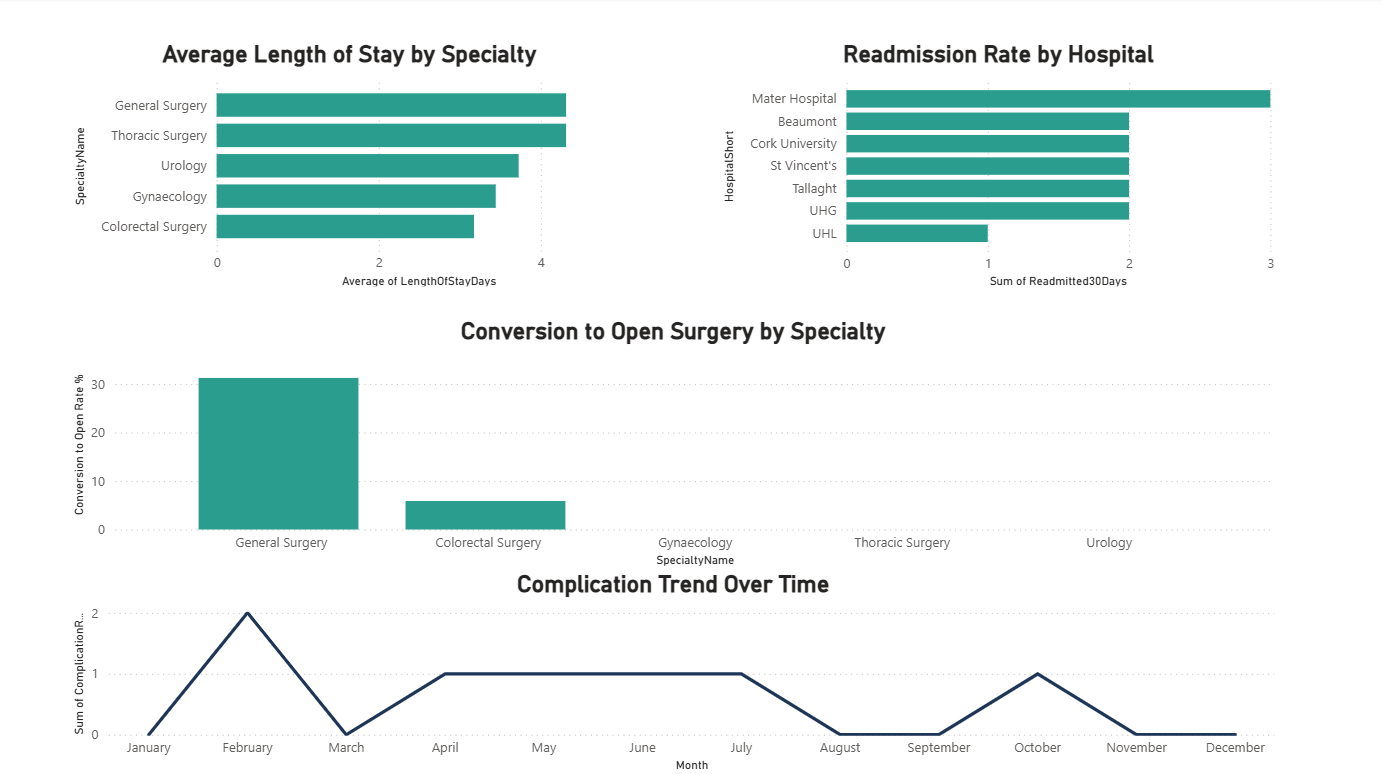

The page's visual inventory and layout, read from the dashboard file:
{"tool":"powerbi","page":{"name":"Clinical & Governance Analysis","canvas":[1280,720],"ordinal":1},"visuals":[{"type":"clusteredBarChart","title":"Average Length of Stay by Specialty","fields":{"Category":["robotic_surgery_dashboard_dataset.SpecialtyName"],"Y":["Avg(robotic_surgery_dashboard_dataset.LengthOfStayDays)"]},"box":[65.7,40.9,519.7,232],"z":0,"group":"g1"},{"type":"clusteredColumnChart","title":"Conversion to Open Surgery by Specialty","fields":{"Category":["robotic_surgery_dashboard_dataset.SpecialtyName"],"Y":["robotic_surgery_dashboard_dataset.Conversion to Open Rate %"]},"box":[64.4,295.6,1119.4,233.7],"z":0},{"type":"clusteredBarChart","title":"30-Day Readmissions by Hospital","fields":{"Y":["Sum(robotic_surgery_dashboard_dataset.Readmitted30Days)"],"Category":["robotic_surgery_dashboard_dataset.HospitalShort"]},"box":[664.9,40.4,519,232.2],"z":1000,"group":"g1"},{"type":"lineChart","title":"Complication Trend Over Time","fields":{"Category":["robotic_surgery_dashboard_dataset.SurgeryDate.Variation.Date Hierarchy.Month"],"Y":["Sum(robotic_surgery_dashboard_dataset.ComplicationRecorded)"]},"box":[64.4,529.4,1119.4,189.5],"z":1000},{"type":"group","id":"g1","title":"Group 1","box":[65.7,40.4,1118.1,232.5],"z":2000}]}

Visuals, with their boxes in screenshot pixels (x1, y1, x2, y2), scaled from the page's 1280x720 canvas onto the 1382x774 screenshot:
"Average Length of Stay by Specialty" clusteredBarChart: 71, 44, 632, 293
"Conversion to Open Surgery by Specialty" clusteredColumnChart: 70, 318, 1278, 569
"30-Day Readmissions by Hospital" clusteredBarChart: 718, 43, 1278, 293
"Complication Trend Over Time" lineChart: 70, 569, 1278, 773
"Group 1" group: 71, 43, 1278, 293
